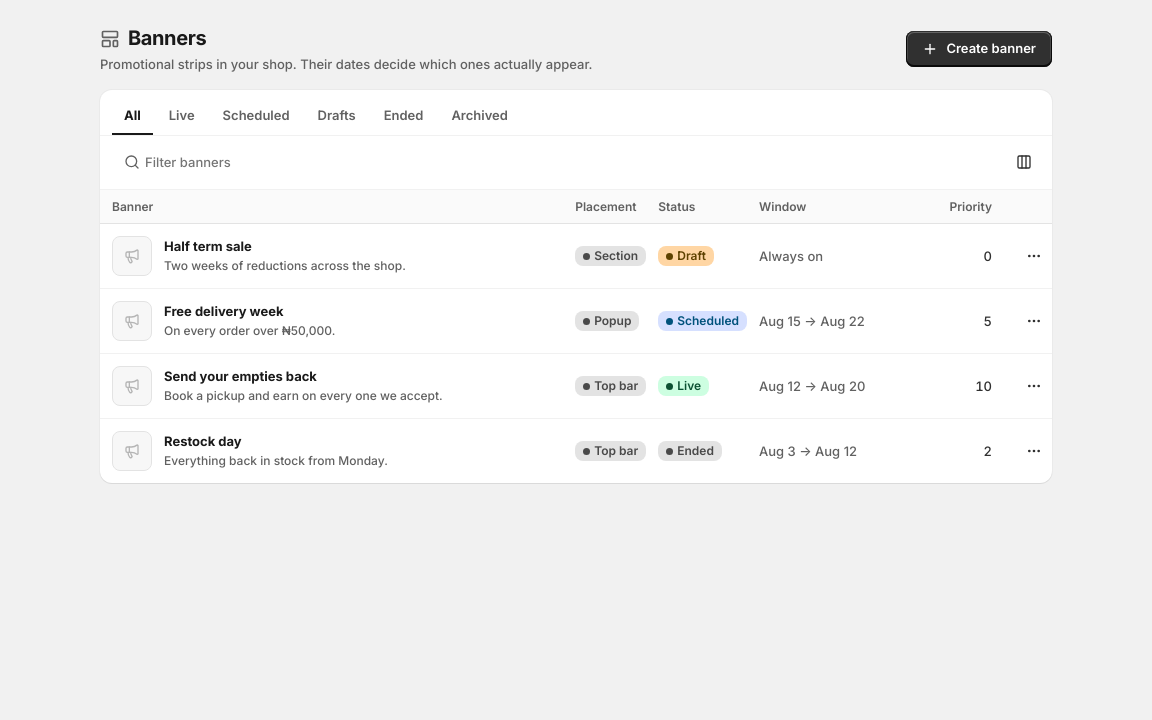
the banners list › flips a status from the row menu as a CAS patch carrying the revision it read
expect the text "Half term sale" is shown: met, box [164, 238, 252, 254]
Click the button named "Actions for Half term sale" at (1034, 256), box [1016, 238, 1052, 274]
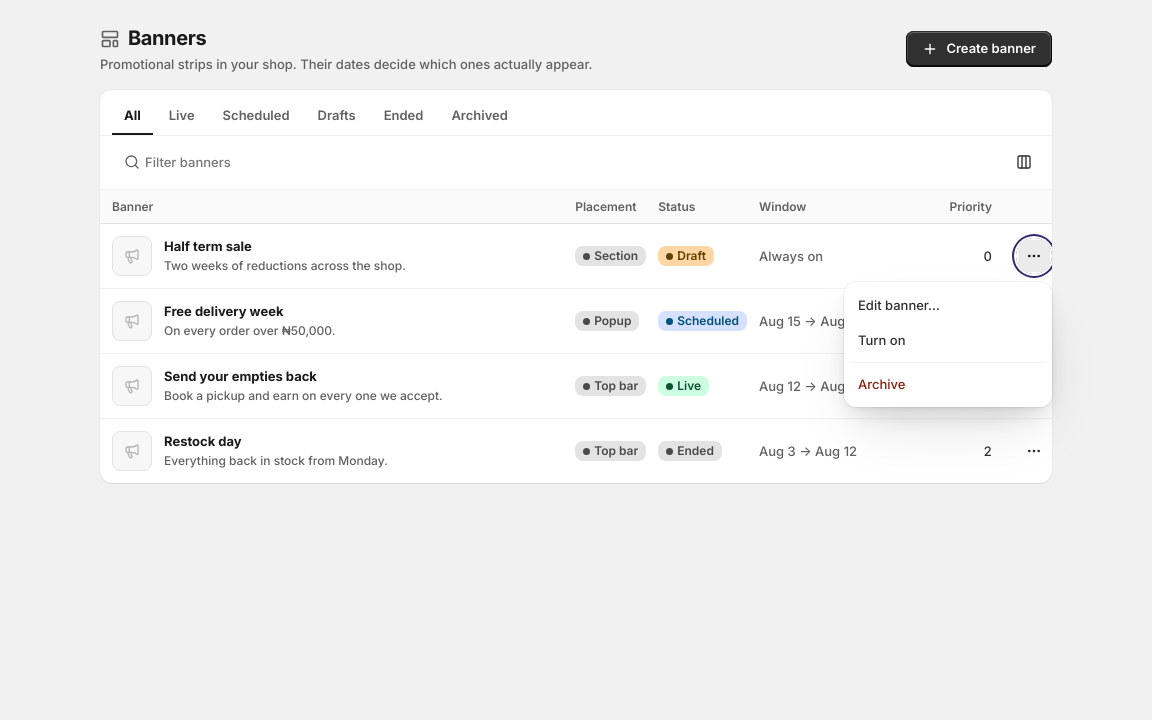
Click the menu item "Turn on" at (948, 340), box [850, 323, 1046, 358]
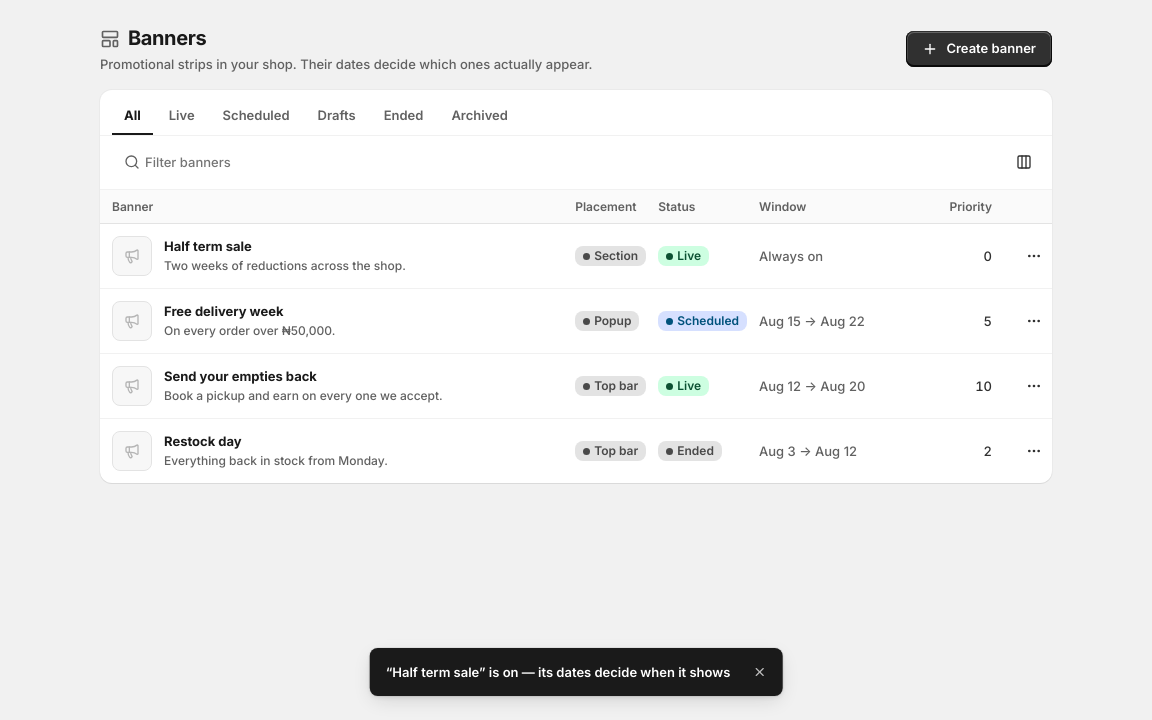
expect the text "Live" is shown: met, box [658, 246, 709, 266]
